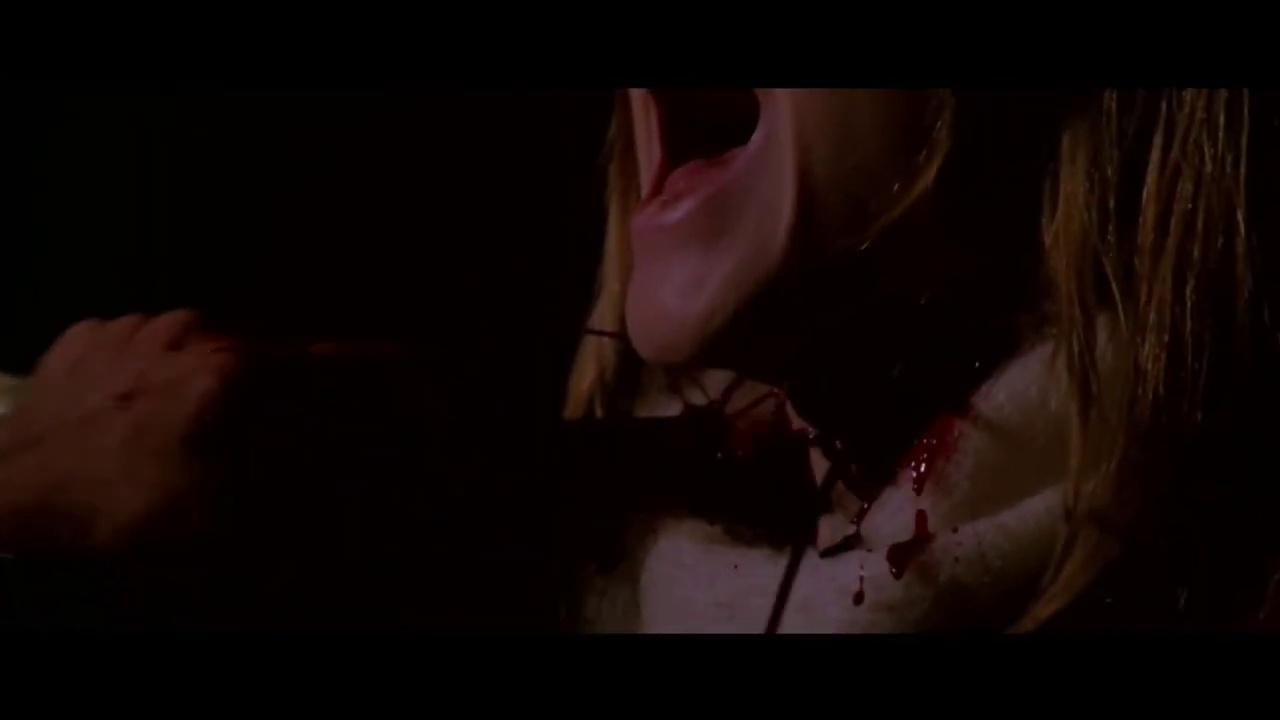Fire: (581, 365, 880, 632), (887, 416, 960, 580)
